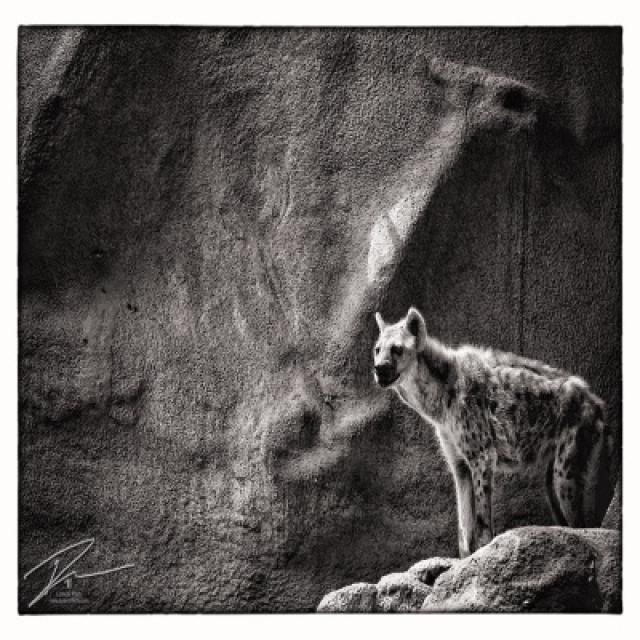hyena: (371, 309, 621, 560)
